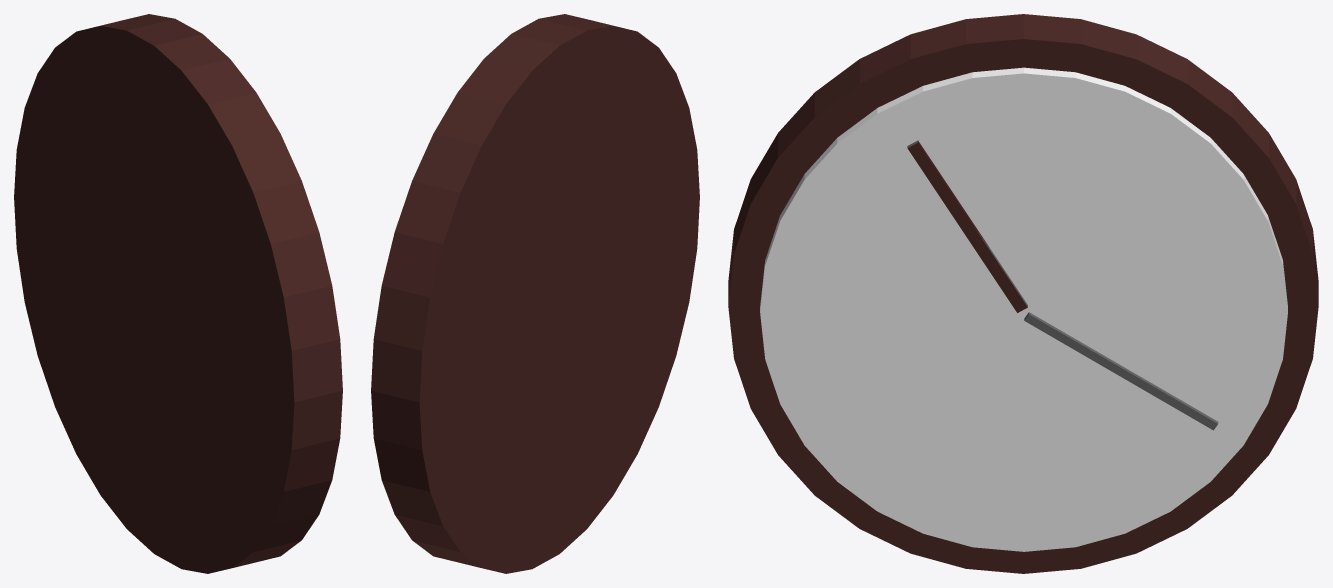
File: Clock.fbx
The picture shows the model from 3 angles, left to right: view 1: azimuth 30°, elevation 25°; view 2: azimuth 150°, elevation 25°; view 3: azimuth 270°, elevation 25°; orthographic projection. The views are drawn at different scales.
Visible parts, largest first — view 1: 円柱; view 2: 円柱; view 3: 円柱.001, 円柱, 立方体.001.
Boxes of the visible parts, x1=… form: 円柱: x1=14, y1=14, x2=342, y2=573; 円柱: x1=371, y1=14, x2=699, y2=573; 円柱.001: x1=760, y1=67, x2=1287, y2=551; 円柱: x1=728, y1=14, x2=1318, y2=573; 立方体.001: x1=1024, y1=312, x2=1218, y2=430.
Bounding box in the file's own units: 0.2651 × 2 × 2.
